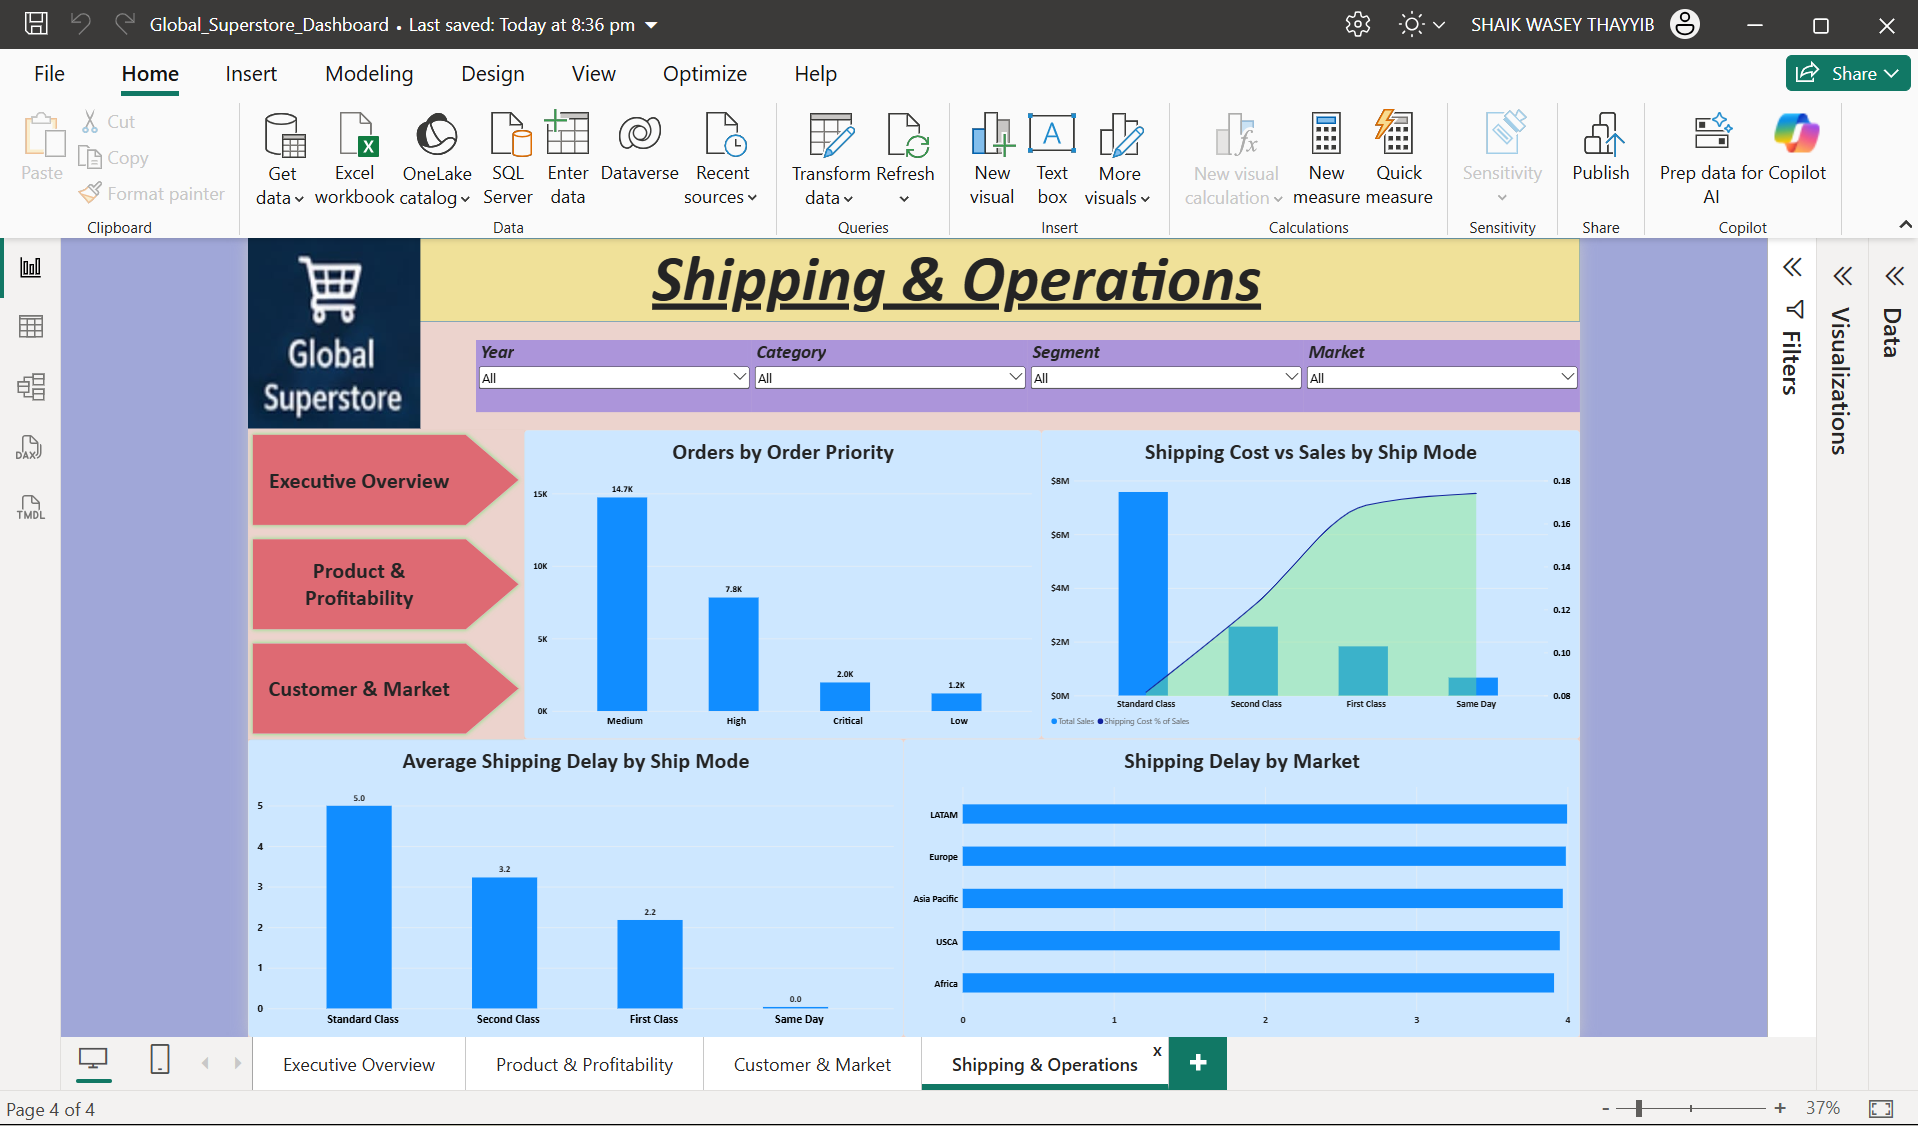

The dashboard page shown, as its layout file describes it:
{"tool":"powerbi","page":{"name":"Shipping & Operations","canvas":[2400,1440],"ordinal":3},"visuals":[{"type":"clusteredColumnChart","title":"Average Shipping Delay by Ship Mode","fields":{"Category":["Orders.Ship Mode"],"Y":["_Measures.Avg Shipping Delay (Days)"]},"box":[0,902.9,1181.4,538],"z":0},{"type":"clusteredColumnChart","title":"Orders by Order Priority","fields":{"Category":["Orders.Order Priority"],"Y":["_Measures.Total Orders"]},"box":[497.4,346,932.7,556.9],"z":1000},{"type":"lineClusteredColumnComboChart","title":" Shipping Cost vs Sales by Ship Mode","fields":{"Category":["Orders.Ship Mode"],"Y":["_Measures.Total Sales"],"Y2":["_Measures.Shipping Cost % of Sales"]},"box":[1430.1,346,970.5,556.9],"z":2000},{"type":"clusteredBarChart","title":" Shipping Delay by Market","fields":{"Category":["Orders.Market"],"Y":["_Measures.Avg Shipping Delay (Days)"]},"box":[1181.4,902.9,1219.2,538],"z":3000},{"type":"shape","box":[0,0,2401,151],"z":7000},{"type":"textbox","box":[356.9,0,1814,151.4],"z":8000},{"type":"pageNavigator","box":[0,346,497.4,556.9],"z":9000},{"type":"slicer","fields":{"Values":["Date.Year"]},"box":[410.9,183.8,497.4,129.8],"z":9001},{"type":"slicer","fields":{"Values":["Orders.Category"]},"box":[908.4,183.8,497.4,129.8],"z":9002},{"type":"slicer","fields":{"Values":["Orders.Segment"]},"box":[1405.8,183.8,497.4,129.8],"z":9003},{"type":"slicer","fields":{"Values":["Orders.Market"]},"box":[1902.6,183.8,497.4,129.8],"z":9004},{"type":"image","box":[0,0,310.9,343.3],"z":9005}]}

Visuals, with their boxes on the page's 2400x1440 design canvas (x1, y1, x2, y2). These are canvas units, not pixel positions in the 1918x1126 screenshot, which may show the page scaled, cropped or inside an application window:
"Average Shipping Delay by Ship Mode" clusteredColumnChart: box=[0, 903, 1181, 1441]
"Orders by Order Priority" clusteredColumnChart: box=[497, 346, 1430, 903]
" Shipping Cost vs Sales by Ship Mode" lineClusteredColumnComboChart: box=[1430, 346, 2401, 903]
" Shipping Delay by Market" clusteredBarChart: box=[1181, 903, 2401, 1441]
shape: box=[0, 0, 2401, 151]
textbox: box=[357, 0, 2171, 151]
pageNavigator: box=[0, 346, 497, 903]
slicer - Date.Year: box=[411, 184, 908, 314]
slicer - Orders.Category: box=[908, 184, 1406, 314]
slicer - Orders.Segment: box=[1406, 184, 1903, 314]
slicer - Orders.Market: box=[1903, 184, 2400, 314]
image: box=[0, 0, 311, 343]
